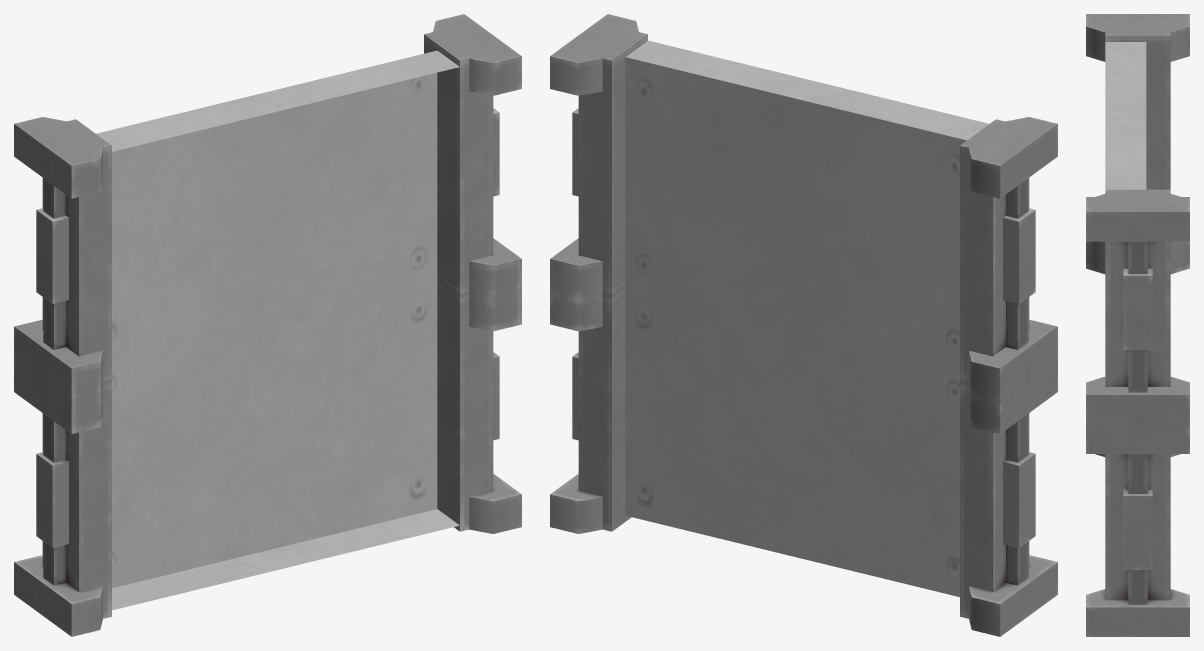
Rendered from Pfb_JALB_WallPart1.fbx.
3 renders of one model, left to right at view 1: azimuth 30°, elevation 25°; view 2: azimuth 150°, elevation 25°; view 3: azimuth 270°, elevation 25°, orthographic. The views are drawn at different scales.
Visible parts, largest first — view 1: MAT_Roof; view 2: MAT_Roof; view 3: MAT_Roof.
Boxes of the visible parts, x1=… form: MAT_Roof: x1=14, y1=14, x2=521, y2=636; MAT_Roof: x1=550, y1=14, x2=1057, y2=636; MAT_Roof: x1=1086, y1=14, x2=1189, y2=636.
Size of the model in its own units: 4 by 4 by 0.8872.
1 material, 1 textured.
